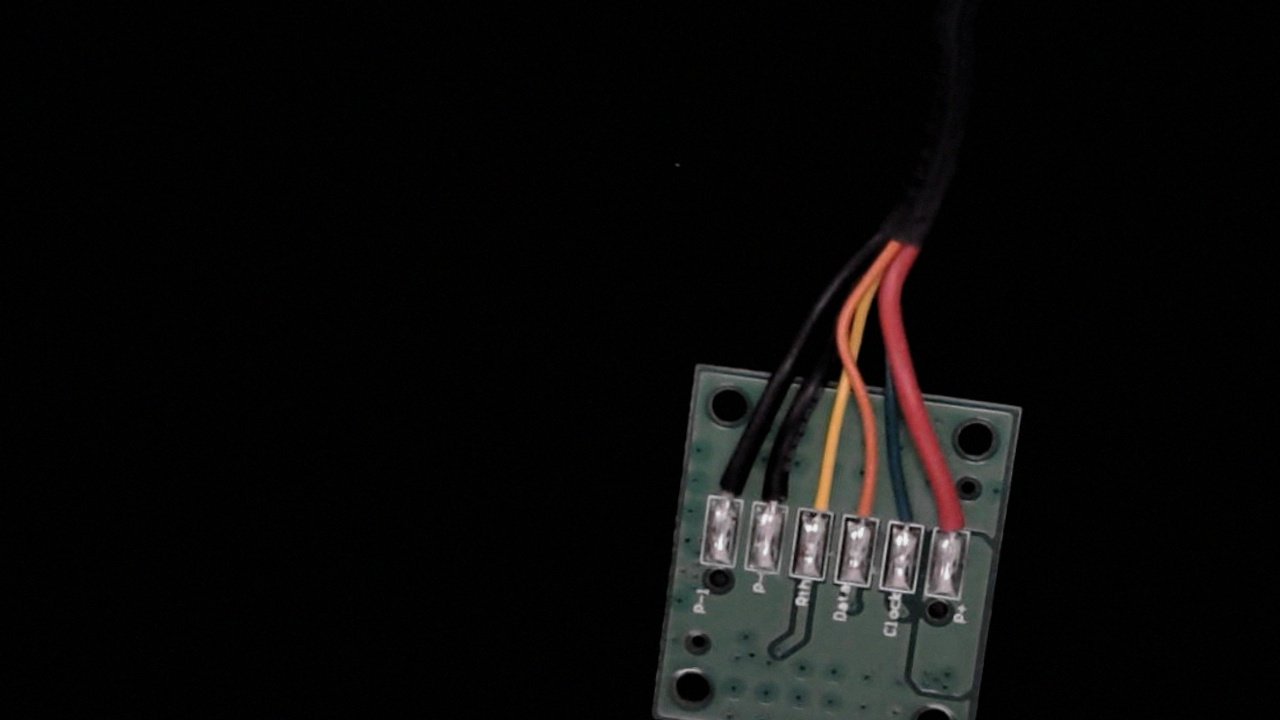Black: (749, 449, 798, 529)
Black1: (704, 440, 752, 518)
Green: (884, 474, 930, 546)
Orange: (841, 468, 886, 542)
Red: (929, 475, 976, 552)
Yellow: (795, 458, 842, 537)
